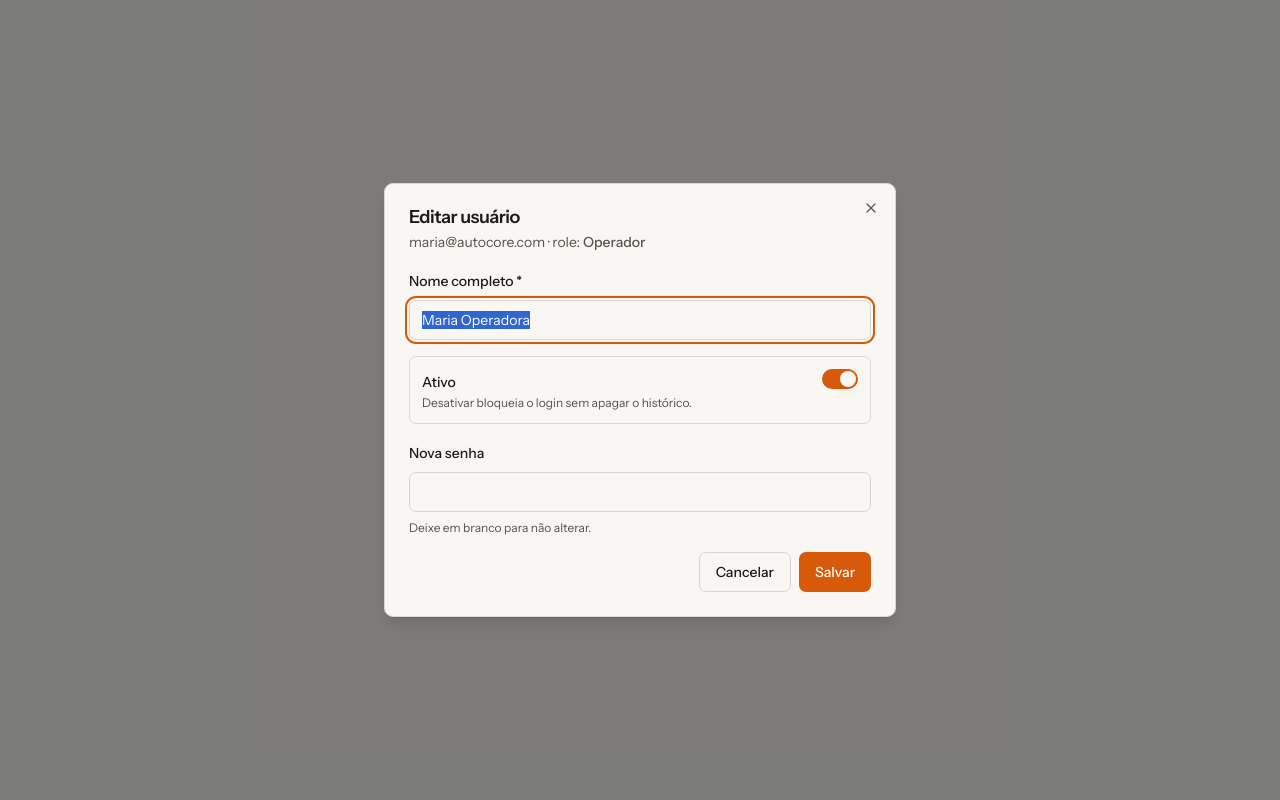
Test: <EditarUsuarioDialog> › mostra erro genérico em 400 (regra de negócio)
Click the button "Salvar" at [835, 572], box [799,552,871,592]
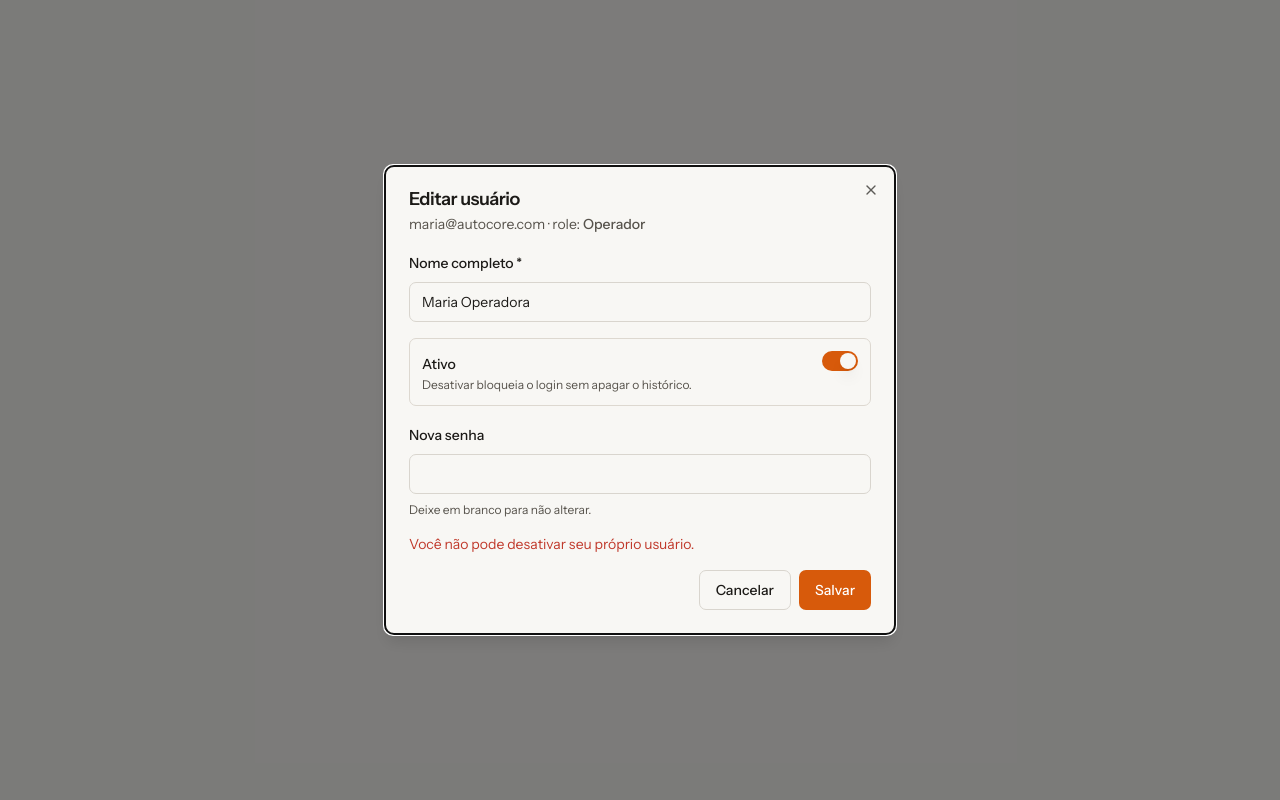
expect the text "Você não pode desativar seu próprio usuário." is shown: met, box [409,535,694,553]
